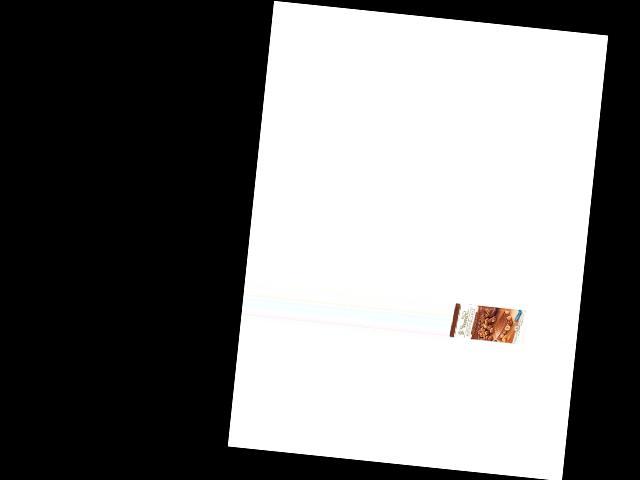chocolate: (451, 300, 523, 349)
